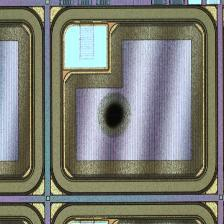PARTICLE: (91, 92, 139, 140)
